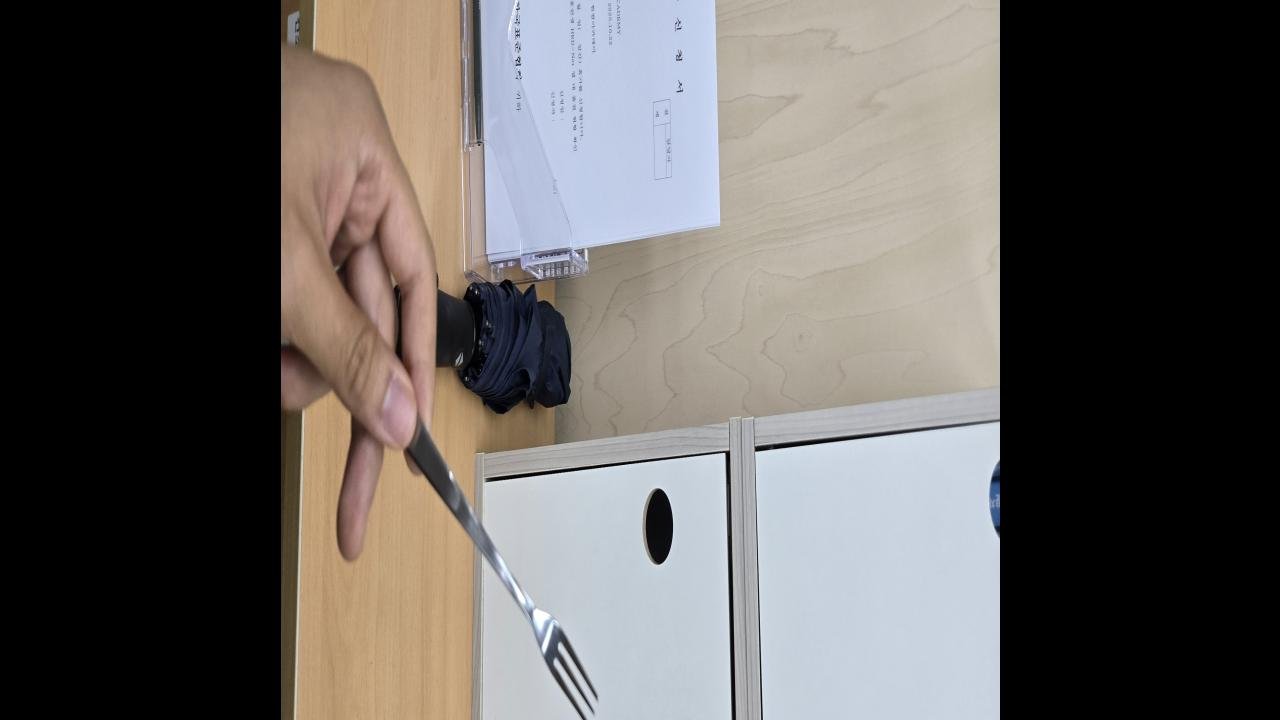fork: (405, 415, 597, 720)
